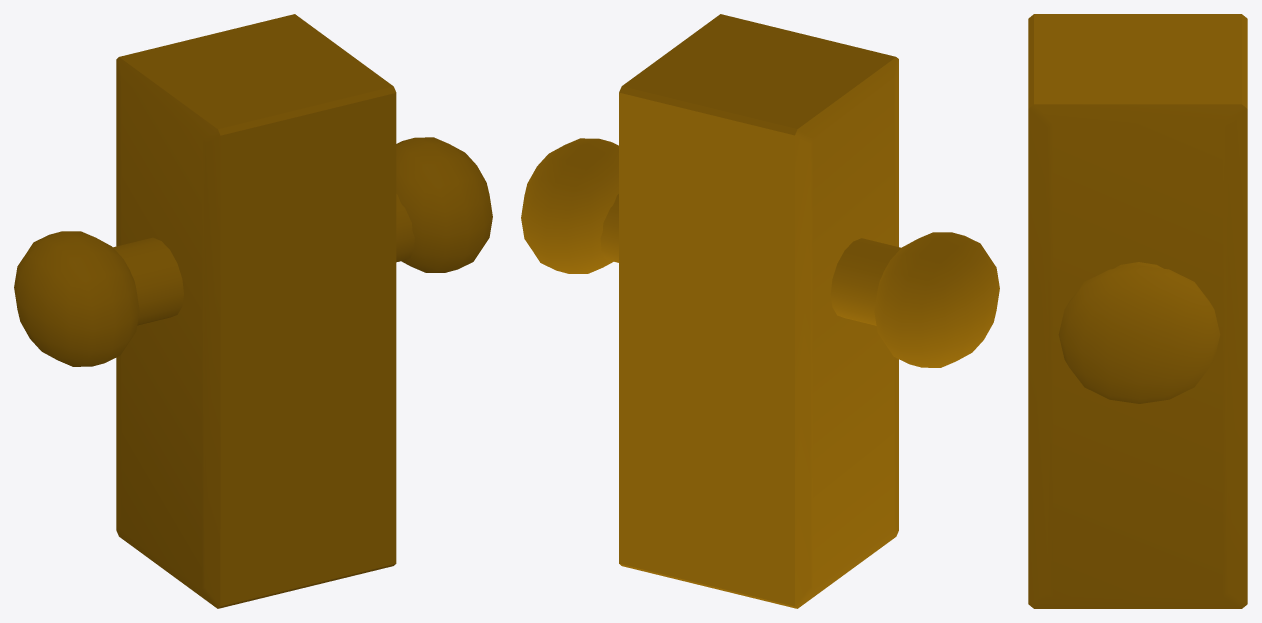
Rendered from FP317:StandardKnob1_013_e3e14941.obj.
3 renders of one model, left to right at view 1: azimuth 30°, elevation 25°; view 2: azimuth 150°, elevation 25°; view 3: azimuth 270°, elevation 25°, orthographic. The views are drawn at different scales.
Parts seen in each view (by area): view 1: FP317:StandardKnob1.013_e3e14941; view 2: FP317:StandardKnob1.013_e3e14941; view 3: FP317:StandardKnob1.013_e3e14941.
Boxes of the visible parts, bbox=[...] form: FP317:StandardKnob1.013_e3e14941: bbox=[14, 14, 492, 608]; FP317:StandardKnob1.013_e3e14941: bbox=[521, 14, 999, 608]; FP317:StandardKnob1.013_e3e14941: bbox=[1028, 14, 1247, 608].
Bounding box in the file's own units: 0.1618 × 0.1645 × 0.0648.
